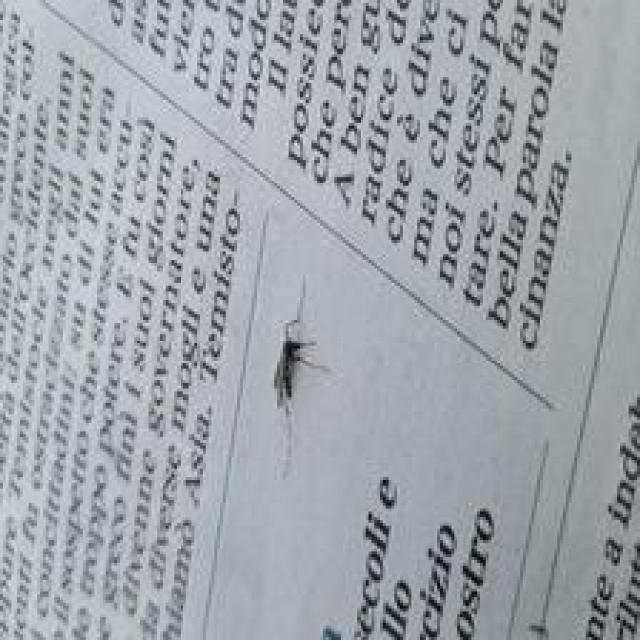Aedes albopictus: (268, 276, 328, 478)
